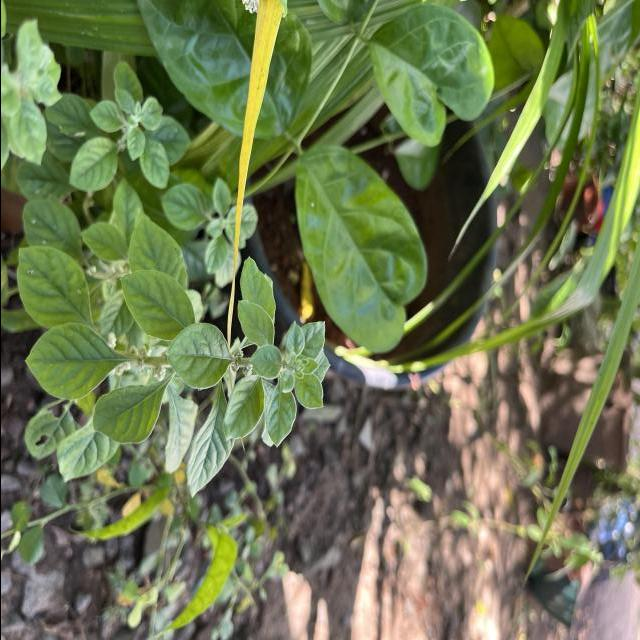Aerva lanata: (21, 321, 126, 402), (118, 266, 196, 342), (89, 378, 169, 446), (183, 396, 235, 500), (163, 319, 233, 391), (220, 375, 266, 443), (238, 252, 276, 321), (263, 378, 298, 449), (236, 297, 276, 347)
